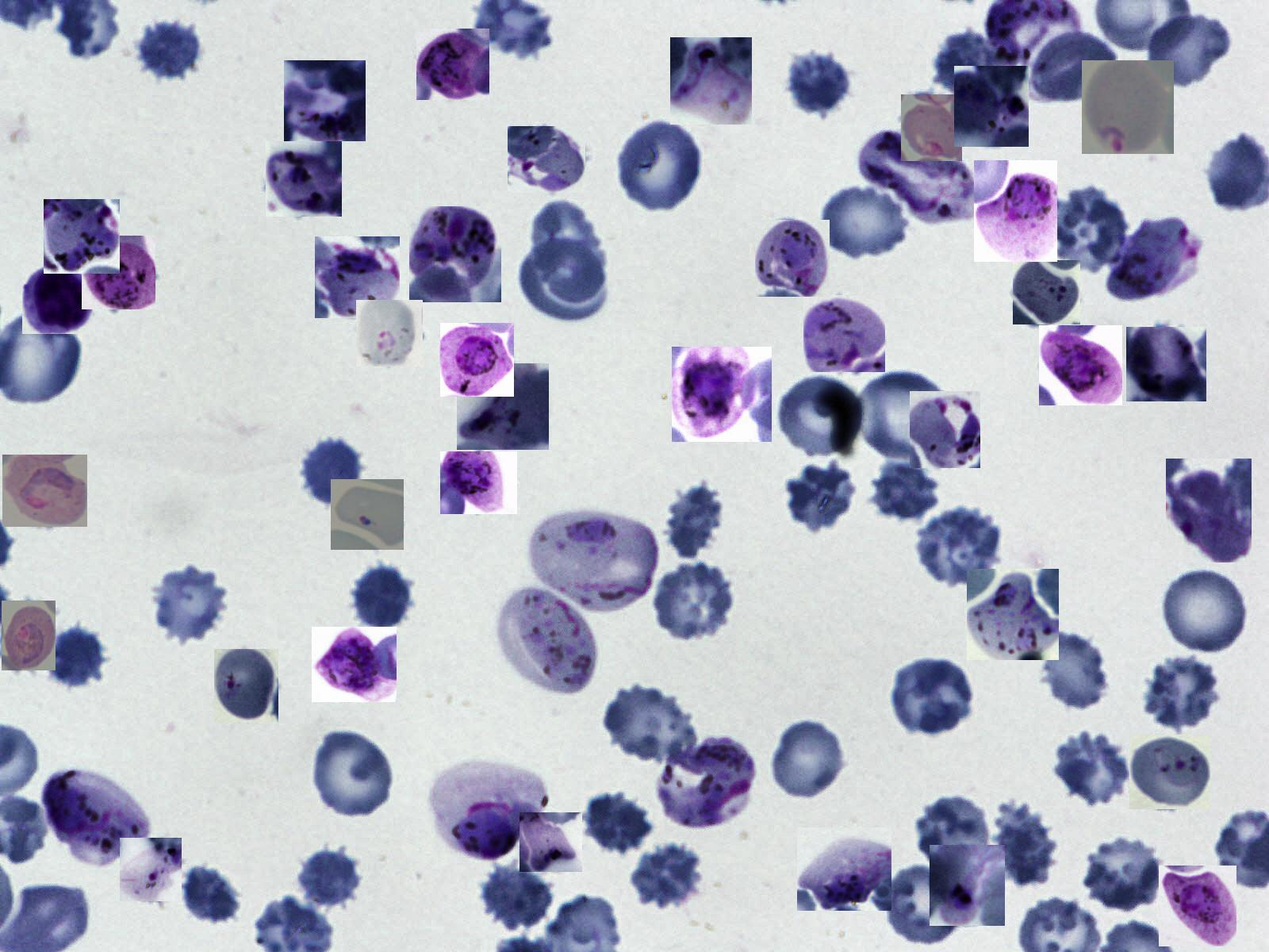Infected: (531, 511, 658, 615), (857, 131, 981, 223), (427, 764, 548, 858), (498, 589, 596, 697), (41, 771, 148, 868), (672, 347, 772, 442), (656, 735, 754, 829), (1166, 459, 1252, 562), (409, 206, 501, 302), (1082, 60, 1174, 154), (974, 160, 1057, 262), (967, 569, 1059, 660), (457, 363, 549, 450), (797, 827, 891, 911), (1105, 220, 1201, 301), (670, 37, 752, 125), (315, 236, 400, 318), (284, 60, 366, 141), (1039, 325, 1122, 405), (312, 627, 397, 702), (803, 295, 885, 372), (1159, 866, 1236, 946), (954, 66, 1029, 147), (930, 845, 1005, 926), (3, 455, 87, 527), (1129, 735, 1210, 809), (1126, 327, 1206, 401), (266, 141, 342, 217), (755, 220, 830, 297), (44, 199, 120, 274), (440, 323, 514, 397), (910, 391, 980, 468), (82, 236, 155, 309), (416, 29, 489, 100), (508, 126, 585, 193), (332, 479, 404, 550), (22, 264, 93, 334), (440, 451, 517, 514), (214, 649, 278, 723), (356, 300, 423, 367), (1013, 260, 1080, 324), (901, 94, 962, 161), (120, 838, 182, 901), (519, 812, 582, 872), (2, 601, 56, 670)
Uninfected: (855, 367, 960, 463), (615, 117, 704, 214), (1160, 564, 1252, 656), (309, 726, 397, 820), (775, 372, 866, 462), (521, 232, 613, 321), (599, 683, 694, 766), (818, 181, 913, 260), (912, 506, 1005, 585), (882, 862, 968, 946), (1144, 9, 1234, 89), (146, 558, 229, 643), (1045, 183, 1125, 271), (888, 658, 977, 737), (650, 561, 737, 641), (1026, 30, 1117, 104), (912, 792, 995, 873), (1079, 833, 1166, 910), (1034, 628, 1112, 712), (1141, 656, 1225, 734), (1048, 729, 1133, 806), (771, 718, 846, 800), (782, 458, 860, 535), (531, 200, 604, 281), (477, 861, 558, 934), (661, 477, 730, 559), (577, 787, 657, 854), (992, 804, 1059, 884), (349, 560, 420, 635), (299, 434, 368, 508), (628, 843, 703, 908), (933, 31, 1003, 95), (788, 48, 851, 114), (870, 460, 938, 521), (44, 628, 115, 685), (295, 846, 358, 910), (137, 20, 203, 79), (183, 863, 243, 926)
